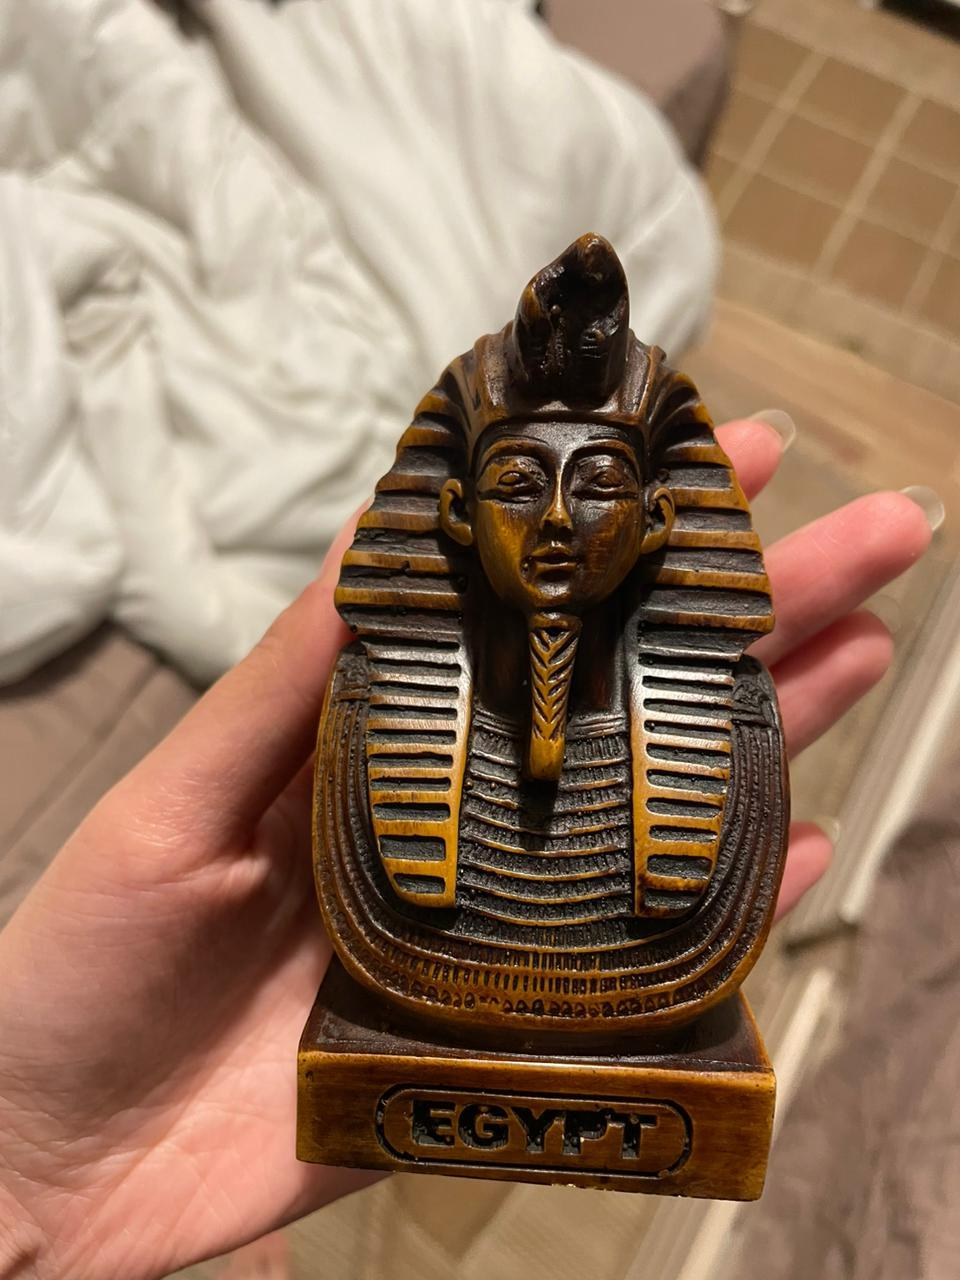Tut: (287, 230, 773, 1203)
